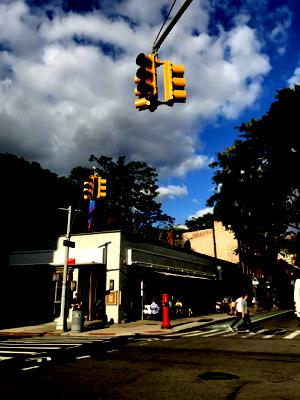International Road Signal Light: (164, 52, 192, 111), (133, 54, 158, 110)
